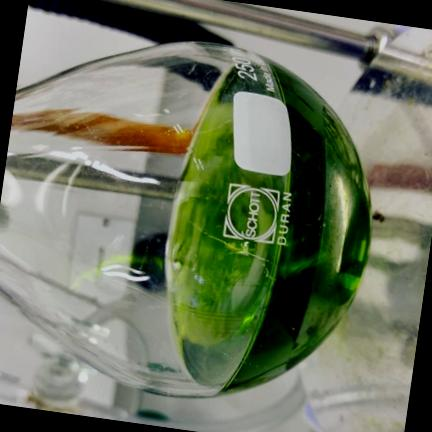container: (0, 41, 382, 397)
fluid: (219, 53, 368, 391)
fluid-surface: (169, 56, 289, 389)
